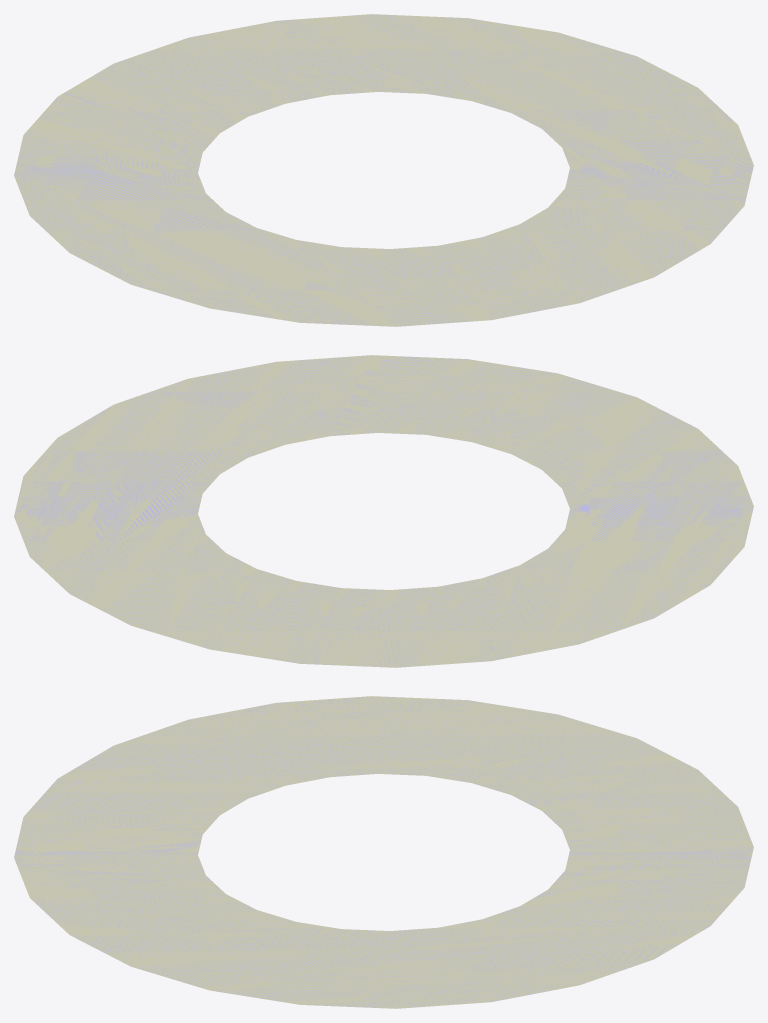
Rendered from original-60.obj.
The picture shows the model from 3 angles, top to bottom: view 1: azimuth 30°, elevation 25°; view 2: azimuth 150°, elevation 25°; view 3: azimuth 270°, elevation 25°; orthographic projection.
Parts seen in each view (by area): view 1: #ID278; view 2: #ID278; view 3: #ID278.
Part boxes in pixels (x1=…): #ID278: x1=14, y1=14, x2=753, y2=326; #ID278: x1=14, y1=355, x2=753, y2=667; #ID278: x1=14, y1=696, x2=753, y2=1008.
Size of the model in its own units: 0.0797 by 0 by 0.0797.
